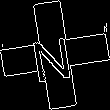N_N: (31, 27, 79, 83)
